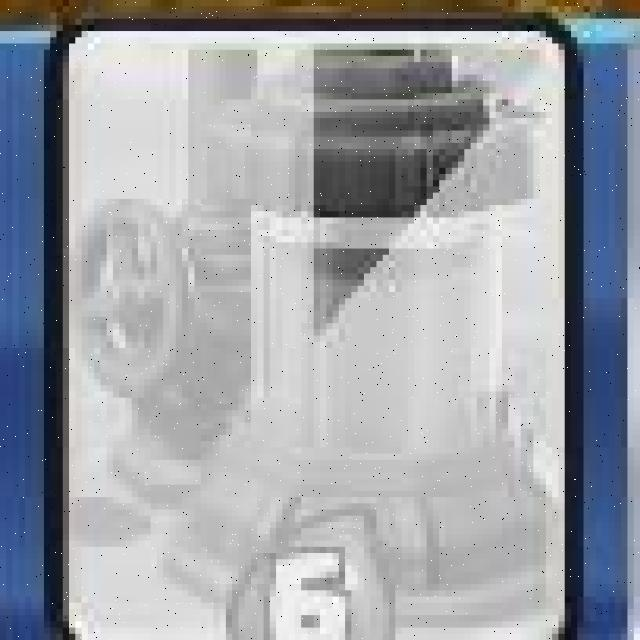Elixir_Pump: (44, 23, 575, 640)
